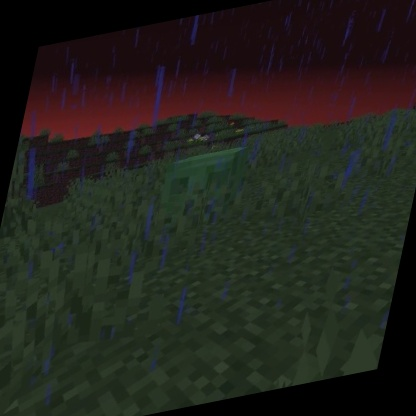slime: (152, 142, 253, 221)
